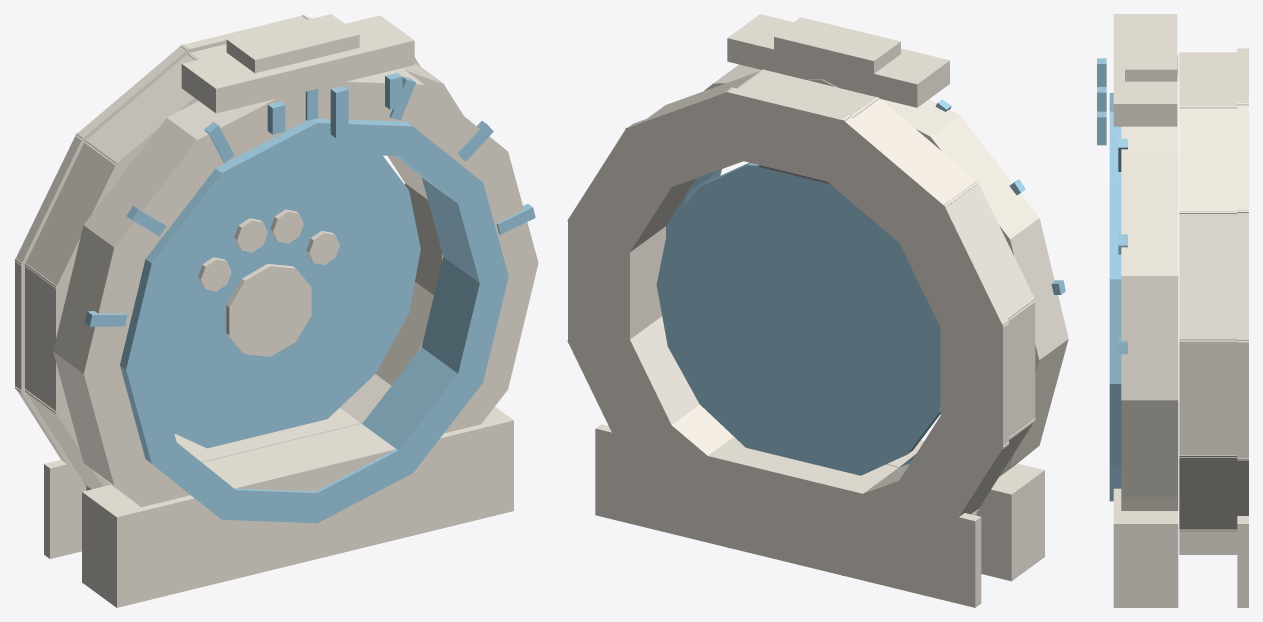
File: CatCafe_CatFlap_Igloo.glb
The picture shows the model from 3 angles, left to right: view 1: azimuth 30°, elevation 25°; view 2: azimuth 150°, elevation 25°; view 3: azimuth 270°, elevation 25°; orthographic projection. The views are drawn at different scales.
Visible parts, largest first — view 1: CatCafe_CatFlap_Igloo, CatCafe_CatFlap_Igloo_Flap; view 2: CatCafe_CatFlap_Igloo, CatCafe_CatFlap_Igloo_Flap; view 3: CatCafe_CatFlap_Igloo.
Part boxes in pixels (x1,y1,x2,y2): CatCafe_CatFlap_Igloo: (14, 14, 538, 607); CatCafe_CatFlap_Igloo_Flap: (155, 153, 420, 448); CatCafe_CatFlap_Igloo: (567, 14, 1068, 607); CatCafe_CatFlap_Igloo_Flap: (656, 162, 940, 475); CatCafe_CatFlap_Igloo: (1097, 14, 1248, 607).
Bounding box in the file's own units: 2.53 × 2.69 × 0.785.
1 material, 1 textured.
